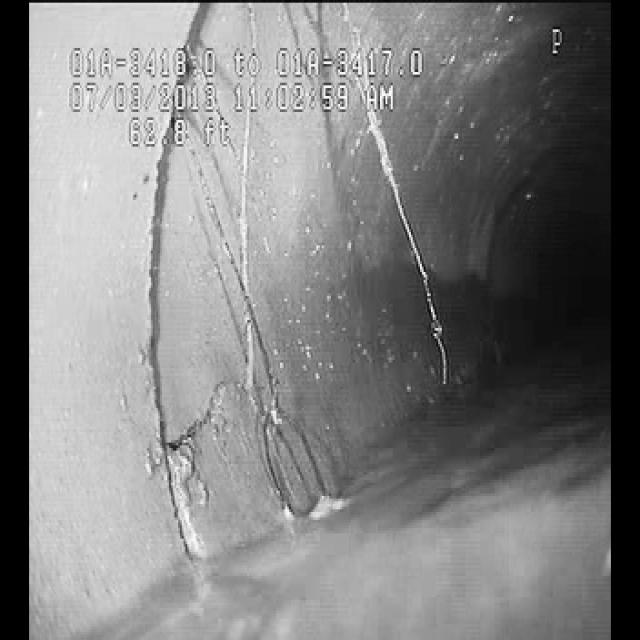Crack: (147, 273, 300, 515)
